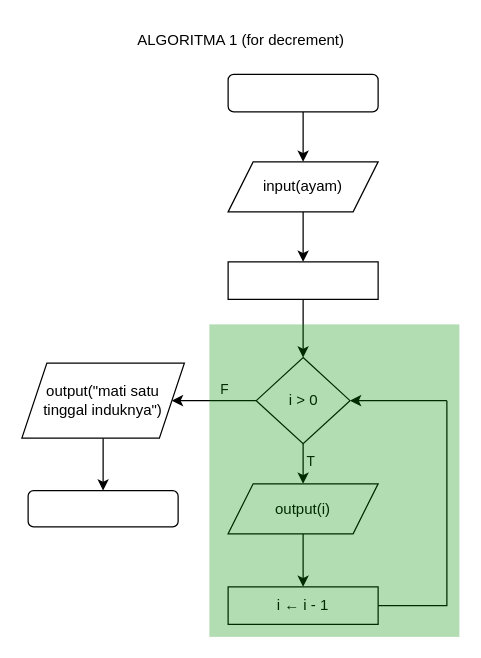
Some shapes in this 481 by 658 pixel diagram are drawn without their labels. The shapes that lost their labels are listed below. From the top down, each one's box as (x1, y1, x2, y2) in pixels, then its label:
(227, 73, 378, 112): Mulai
(227, 261, 378, 299): i ← ayam - 1
(27, 489, 178, 527): Selesai
